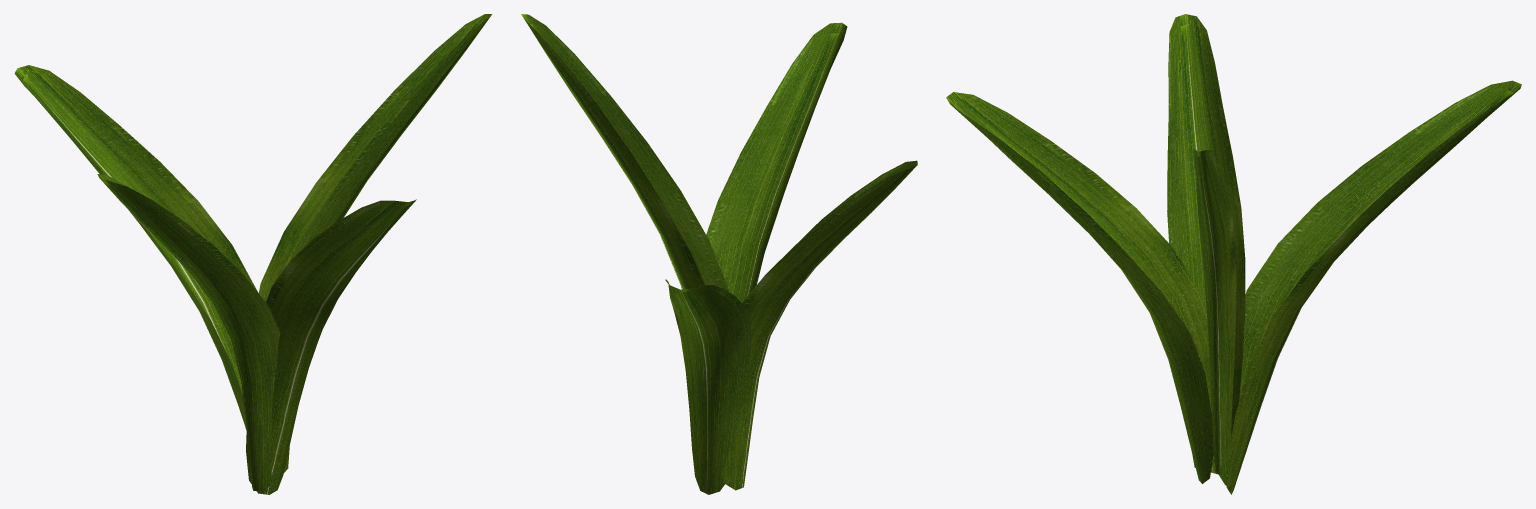
The model's file is CornSt1.fbx.
3 renders of one model, left to right at view 1: azimuth 30°, elevation 25°; view 2: azimuth 150°, elevation 25°; view 3: azimuth 270°, elevation 25°, orthographic. The views are drawn at different scales.
Visible parts, largest first — view 1: Plane.003, Plane.002, Plane.001, Plane; view 2: Plane.003, Plane.002, Plane, Plane.001; view 3: Plane.002, Plane.003, Plane.001, Plane.
Boxes of the visible parts, box(x1,y1,x2,y2) form: Plane.003: box(246, 199, 416, 494); Plane.002: box(14, 65, 289, 472); Plane.001: box(97, 174, 283, 491); Plane: box(258, 14, 492, 302); Plane.003: box(706, 22, 847, 482); Plane.002: box(665, 279, 751, 494); Plane: box(521, 14, 729, 291); Plane.001: box(721, 160, 917, 490); Plane.002: box(1215, 80, 1521, 494); Plane.003: box(946, 92, 1213, 483); Plane.001: box(1167, 14, 1245, 474); Plane: box(1193, 149, 1236, 475).
Bounding box in the file's own units: 15.66 × 16.08 × 18.88.
1 material, 1 textured.
